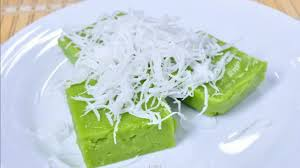kanompiakpoon: (41, 8, 271, 121), (61, 70, 183, 168)
